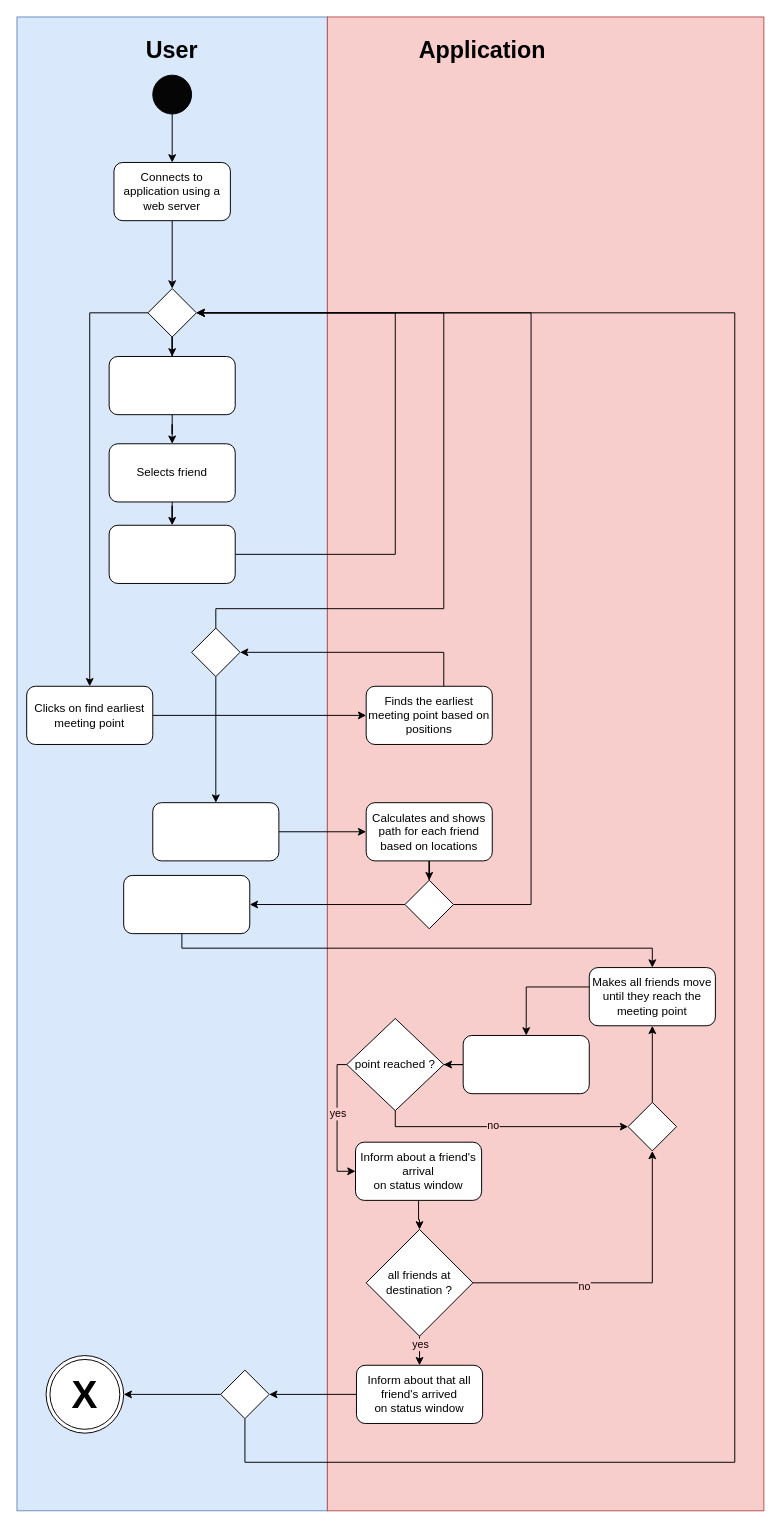
This 781x1528 diagram has some shape labels left out. The shapes that lost their labels are listed below. From the top down, each one's box as (x1, y1, x2, y2) in pixels, then its label:
(108, 356, 235, 415): Clicks on change friends location button
(108, 524, 235, 583): Modify friend's location
(152, 802, 279, 861): Clicks on generate routes button
(123, 874, 250, 934): Clicks on following friends
(462, 1035, 589, 1094): Inform about the early, tardy of each friend on status window
